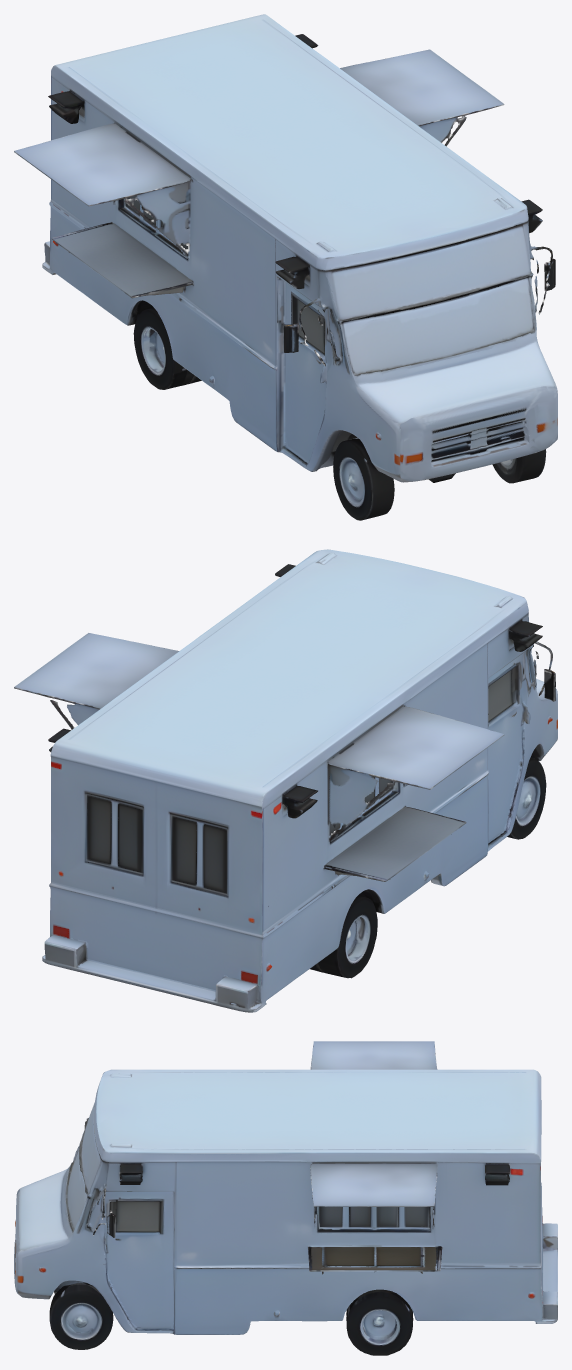
Rendered from foodtruck.glb.
The picture shows the model from 3 angles, top to bottom: view 1: azimuth 30°, elevation 25°; view 2: azimuth 150°, elevation 25°; view 3: azimuth 270°, elevation 25°; orthographic projection. The views are drawn at different scales.
Visible parts, largest first — view 1: model; view 2: model; view 3: model.
Boxes of the visible parts, bbox=[...] form: model: bbox=[14, 14, 557, 520]; model: bbox=[14, 549, 557, 1012]; model: bbox=[14, 1041, 557, 1355].
Size of the model in its own units: 1.36 by 0.7973 by 1.9.
1 material, 1 textured.
